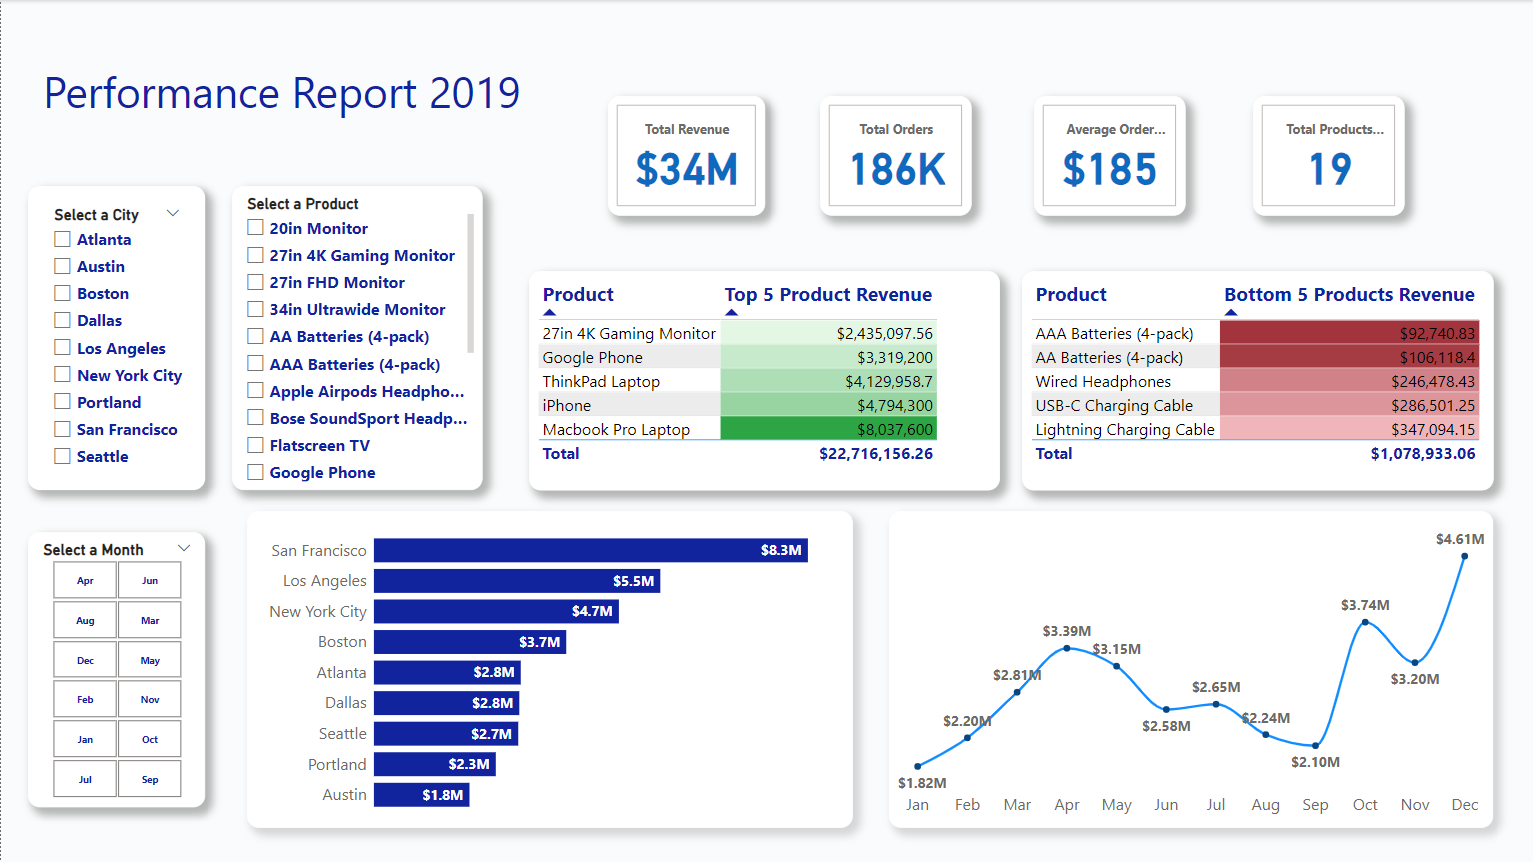

Layout of this report page (visuals, bound fields, positions):
{"tool":"powerbi","page":{"name":"Page 1","canvas":[1920,1080],"ordinal":0},"visuals":[{"type":"cardVisual","fields":{"Data":["_Measure.Total Orders"]},"box":[1026.7,119.9,190,149.6],"z":0},{"type":"lineChart","fields":{"Y":["_Measure.Total Revenue"],"Category":["Calendar.Month Name"]},"box":[1112.9,640,757.2,397.5],"z":1000},{"type":"clusteredBarChart","fields":{"Category":["Append1.City"],"Y":["_Measure.Total Revenue"]},"box":[308.5,640,758.6,397.5],"z":2000},{"type":"slicer","fields":{"Values":["Top N Selection.Value"]},"box":[661.6,464.8,549.7,74.1],"z":3000},{"type":"tableEx","fields":{"Values":["Pseudo prod Table.Product","_Measure.Top Product Revenue"]},"box":[661.6,339.5,590.1,274.9],"z":4000},{"type":"tableEx","fields":{"Values":["Append1.Product","_Measure.BottProducts Revenue"]},"box":[1278.7,339.5,591.5,274.9],"z":5000},{"type":"slicer","fields":{"Values":["Append1.City"]},"box":[33.7,233.1,222.3,381.3],"z":6000},{"type":"slicer","fields":{"Values":["Calendar.Month Name"]},"box":[33.7,666.9,222.3,344.9],"z":7000},{"type":"textbox","box":[47.2,72.8,641.3,93],"z":8000},{"type":"cardVisual","fields":{"Data":["_Measure.Total Revenue"]},"box":[759.9,119.9,196.7,149.6],"z":9000},{"type":"slicer","fields":{"Values":["Append1.Product"]},"box":[289.7,233.1,313.9,381.3],"z":10000},{"type":"cardVisual","fields":{"Data":["_Measure.Average Order Value"]},"box":[1294.8,119.9,190,149.6],"z":11000},{"type":"cardVisual","fields":{"Data":["_Measure.Total Products Sold"]},"box":[1568.3,119.9,190,149.6],"z":12000}]}

Visuals, with their boxes in screenshot pixels (x1, y1, x2, y2), scaled from the page's 1920x1080 canvas onto the 1533x862 screenshot:
cardVisual - _Measure.Total Orders: {"x1": 820, "y1": 96, "x2": 971, "y2": 215}
lineChart - _Measure.Total Revenue x Calendar.Month Name: {"x1": 889, "y1": 511, "x2": 1493, "y2": 828}
clusteredBarChart - Append1.City x _Measure.Total Revenue: {"x1": 246, "y1": 511, "x2": 852, "y2": 828}
slicer - Top N Selection.Value: {"x1": 528, "y1": 371, "x2": 967, "y2": 430}
tableEx - Pseudo prod Table.Product x _Measure.Top Product Revenue: {"x1": 528, "y1": 271, "x2": 999, "y2": 490}
tableEx - Append1.Product x _Measure.BottProducts Revenue: {"x1": 1021, "y1": 271, "x2": 1493, "y2": 490}
slicer - Append1.City: {"x1": 27, "y1": 186, "x2": 204, "y2": 490}
slicer - Calendar.Month Name: {"x1": 27, "y1": 532, "x2": 204, "y2": 808}
textbox: {"x1": 38, "y1": 58, "x2": 550, "y2": 132}
cardVisual - _Measure.Total Revenue: {"x1": 607, "y1": 96, "x2": 764, "y2": 215}
slicer - Append1.Product: {"x1": 231, "y1": 186, "x2": 482, "y2": 490}
cardVisual - _Measure.Average Order Value: {"x1": 1034, "y1": 96, "x2": 1186, "y2": 215}
cardVisual - _Measure.Total Products Sold: {"x1": 1252, "y1": 96, "x2": 1404, "y2": 215}
